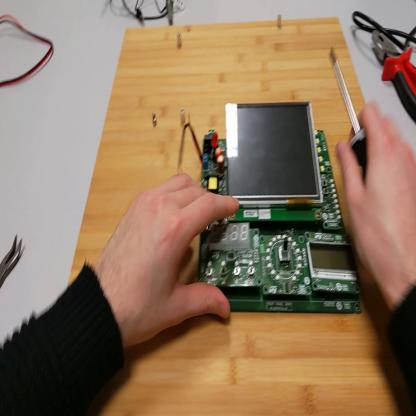hand: (101, 172, 240, 339), (336, 104, 416, 301)
low voltage board: (174, 103, 360, 316)
oscilloscope probe tip: (167, 1, 176, 27)
pliers: (372, 32, 416, 121), (1, 232, 24, 290)
screwdriver-: (331, 48, 368, 171)
working area: (68, 19, 416, 415)
